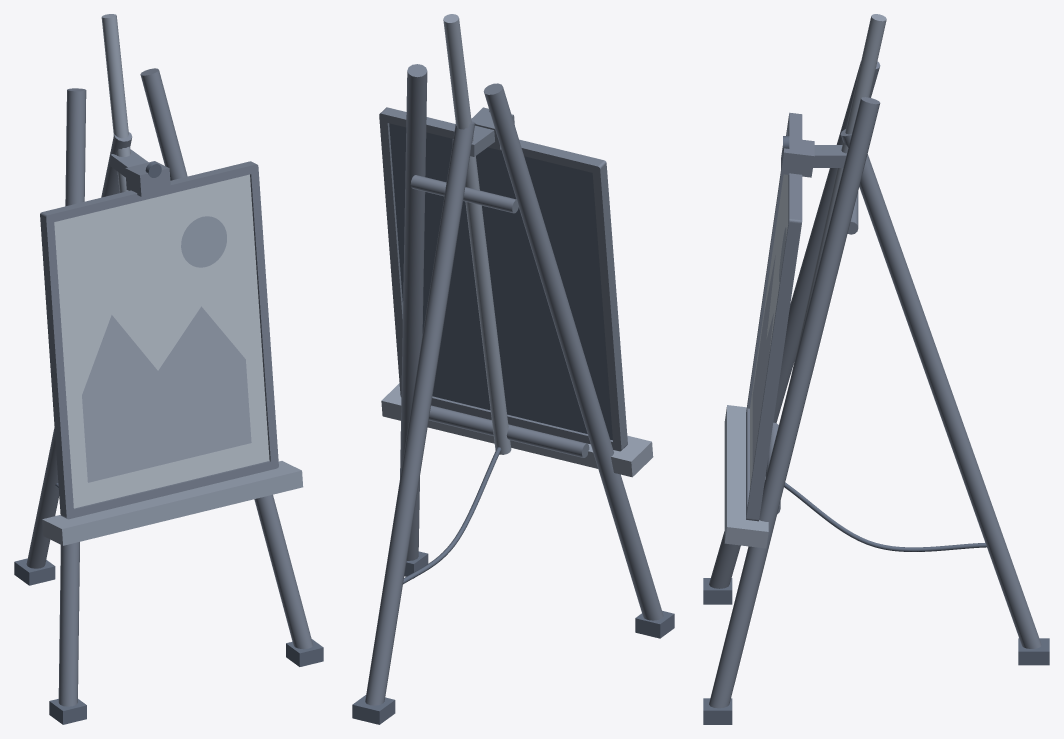
The model's file is 画架＋画板-lite.glb.
3 views of the same model, side by side, from view 1: azimuth 30°, elevation 25°; view 2: azimuth 150°, elevation 25°; view 3: azimuth 270°, elevation 25° (orthographic). The views are drawn at different scales.
Parts seen in each view (by area): view 1: easel-board-light, easel-board-frame, easel-board-soft, easel-board-accent, easel-board-dark; view 2: easel-board-frame, easel-board-dark, easel-board-accent; view 3: easel-board-frame, easel-board-accent, easel-board-dark, easel-board-light, easel-board-soft.
Boxes of the visible parts, left/top/right/bottom form: easel-board-light: left=54, top=174, right=269, bottom=508; easel-board-frame: left=26, top=68, right=312, bottom=706; easel-board-soft: left=82, top=306, right=251, bottom=482; easel-board-accent: left=42, top=14, right=303, bottom=545; easel-board-dark: left=14, top=162, right=323, bottom=724; easel-board-frame: left=365, top=64, right=663, bottom=705; easel-board-dark: left=352, top=110, right=674, bottom=724; easel-board-accent: left=381, top=14, right=653, bottom=477; easel-board-frame: left=709, top=61, right=1041, bottom=708; easel-board-accent: left=724, top=14, right=886, bottom=548; easel-board-dark: left=703, top=136, right=1049, bottom=724; easel-board-light: left=750, top=174, right=788, bottom=487; easel-board-soft: left=752, top=255, right=775, bottom=469.
Bounding box in the file's own units: 0.749 × 1.69 × 0.827.
